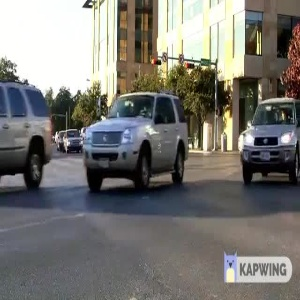suv: (78, 86, 192, 195), (235, 90, 300, 195)
